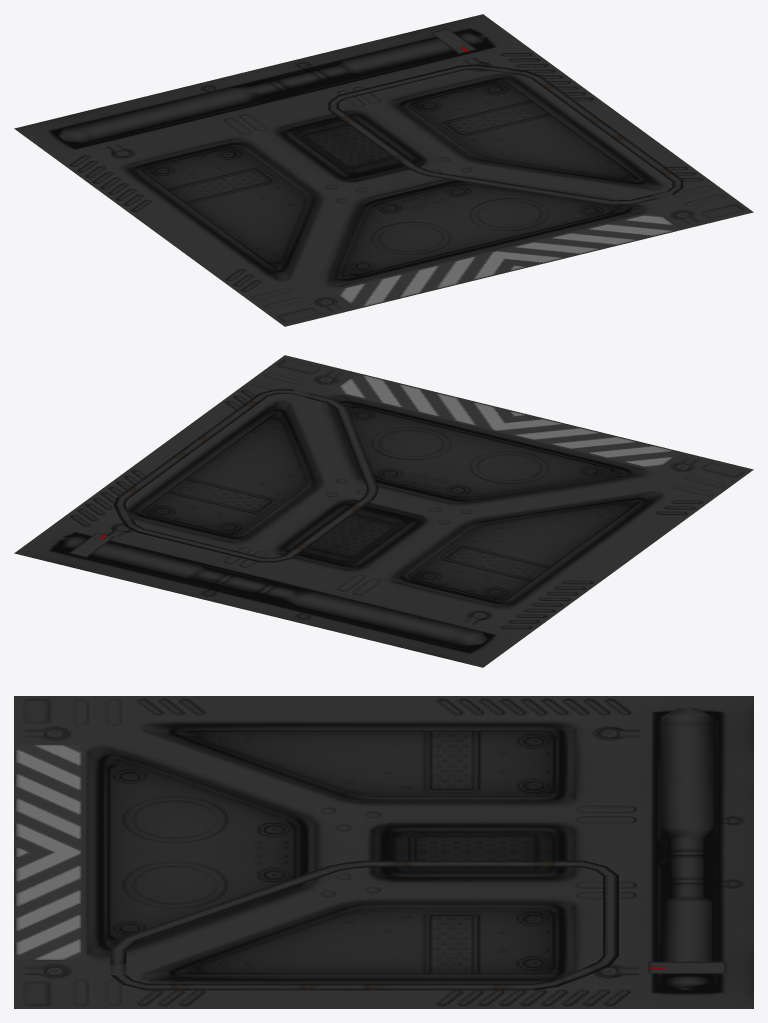
Rendered from Panel_A_1x1_L3.FBX.
The picture shows the model from 3 angles, top to bottom: view 1: azimuth 30°, elevation 25°; view 2: azimuth 150°, elevation 25°; view 3: azimuth 270°, elevation 25°; orthographic projection. The views are drawn at different scales.
Parts seen in each view (by area): view 1: Panel_A_1x1_L3; view 2: Panel_A_1x1_L3; view 3: Panel_A_1x1_L3.
Boxes of the visible parts, x1,y1,x2,y2 form: Panel_A_1x1_L3: (14,14,753,326); Panel_A_1x1_L3: (14,355,753,667); Panel_A_1x1_L3: (14,696,753,1008).
Size of the model in its own units: 100 by 0.7708 by 100.
